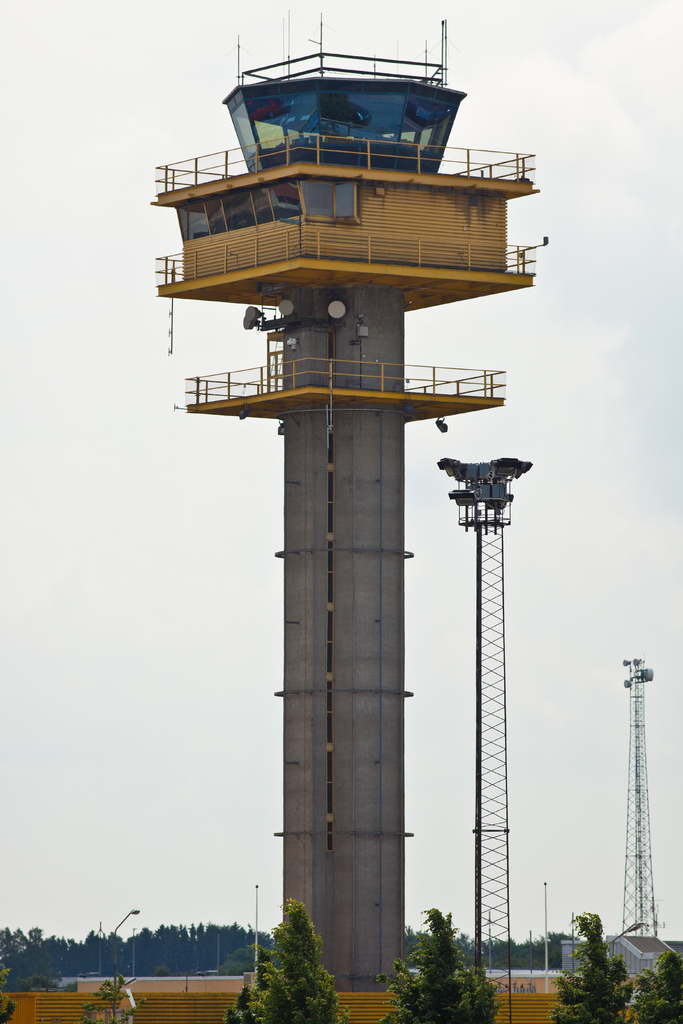Tree: (0, 897, 682, 1024)
